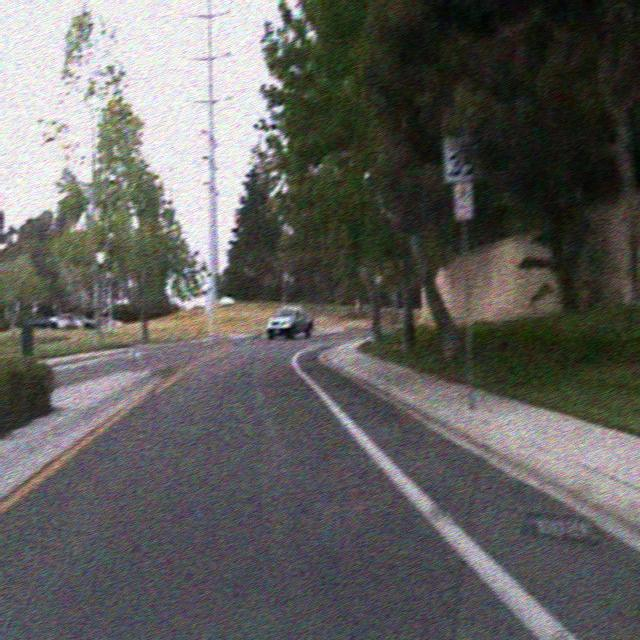speedLimit35: (440, 119, 480, 182)
